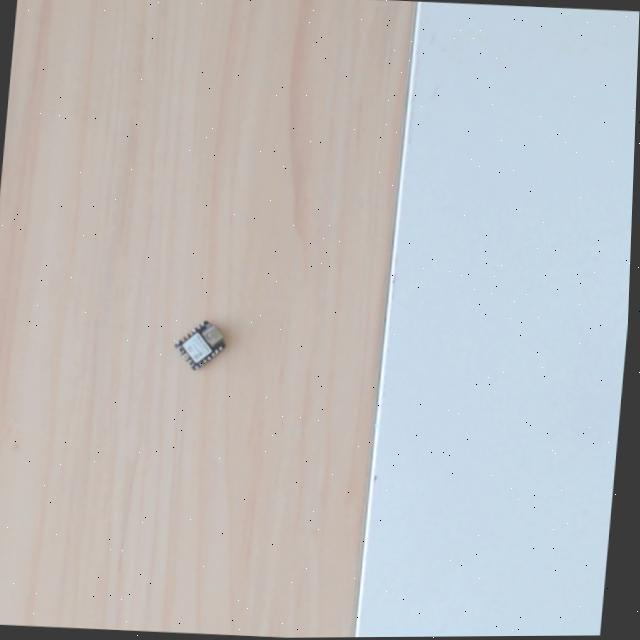ESP32C3-Xiao: (170, 314, 232, 374)
